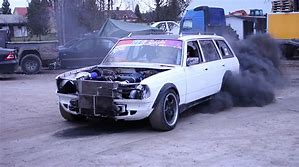smoke: (208, 27, 287, 112)
